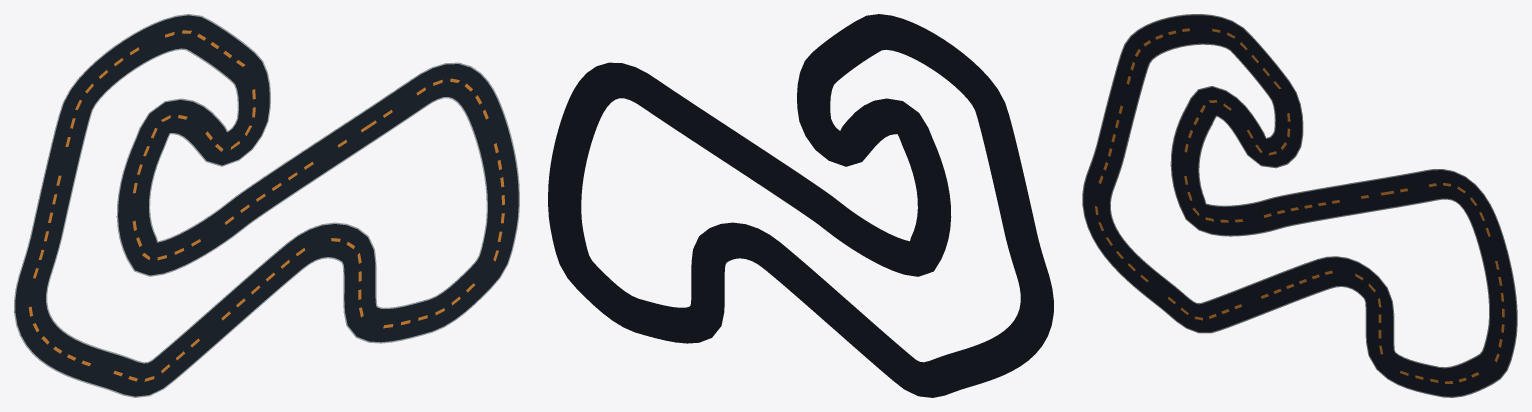
The model's file is track.obj.
The picture shows the model from 3 angles, left to right: view 1: azimuth 30°, elevation 25°; view 2: azimuth 150°, elevation 25°; view 3: azimuth 330°, elevation 25°; orthographic projection. The views are drawn at different scales.
Size of the model in its own units: 16.21 by 11.64 by 0.002.
